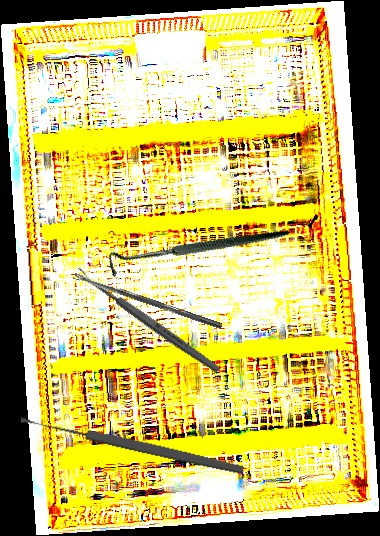Hook Surgical: (102, 177, 291, 328)
Surgical Spoon: (73, 266, 222, 375), (19, 412, 245, 477), (73, 271, 223, 330)
